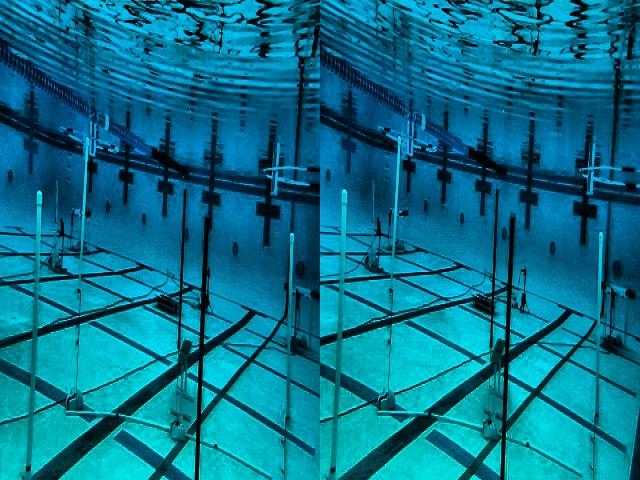octagon_table: (597, 279, 636, 357), (284, 279, 320, 357), (69, 207, 91, 254), (388, 207, 408, 253)
octagon_top: (376, 125, 437, 162), (59, 126, 119, 161), (577, 165, 640, 198), (258, 166, 320, 198)
path_marker: (170, 338, 196, 424), (482, 338, 508, 423)
